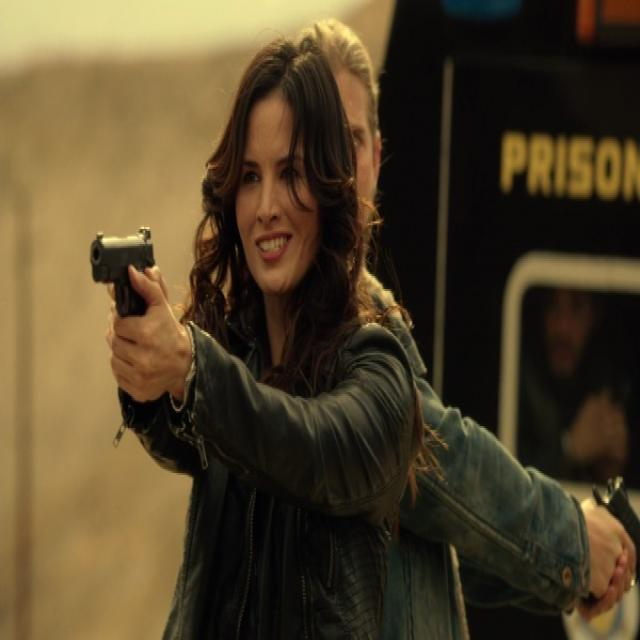weapons: (84, 202, 176, 410)
